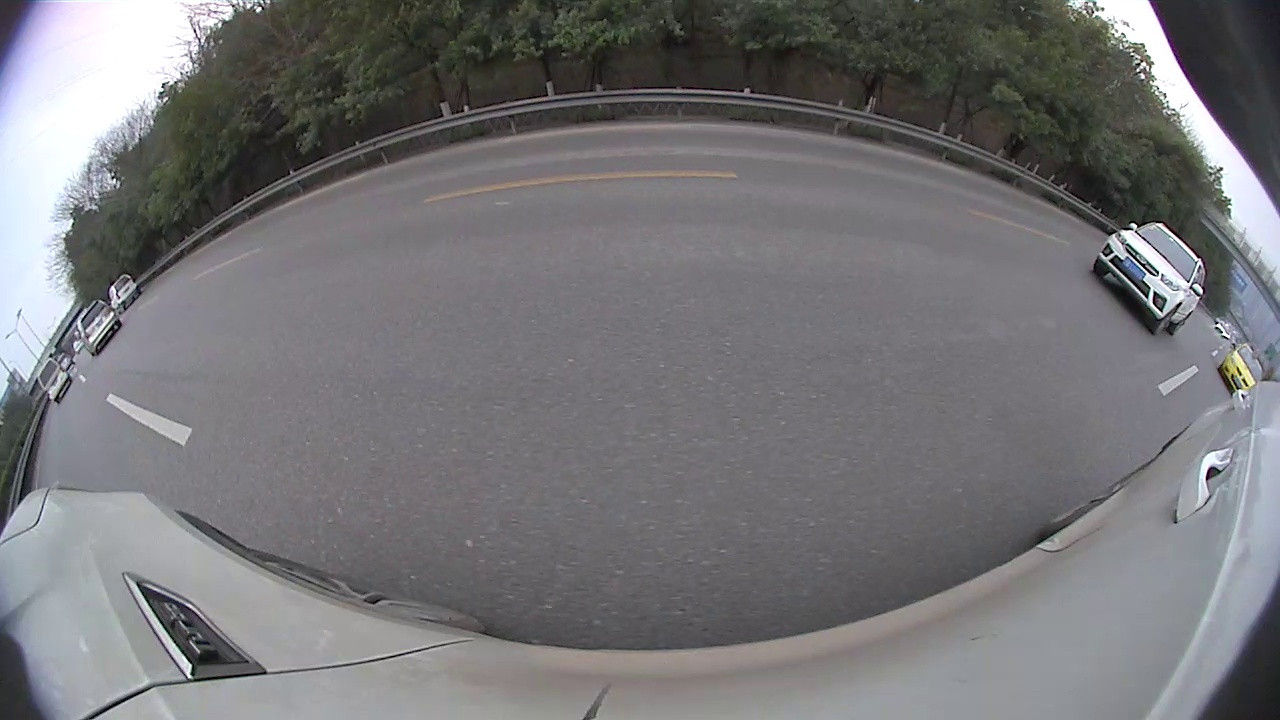car: (1092, 220, 1207, 336), (75, 298, 123, 358), (1217, 343, 1265, 397), (36, 356, 73, 405), (107, 273, 141, 314)
front: (1154, 304, 1179, 336)
